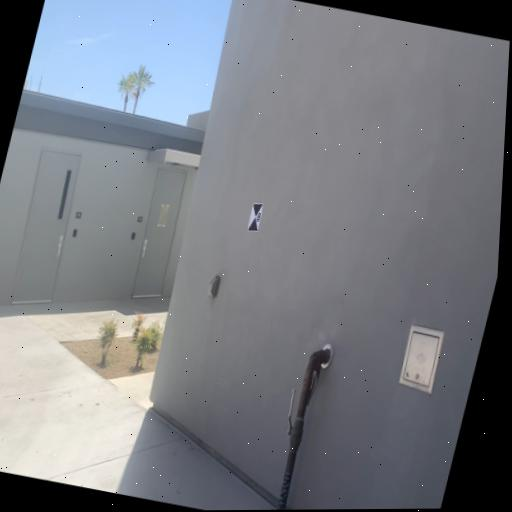target8: (246, 203, 265, 233)
